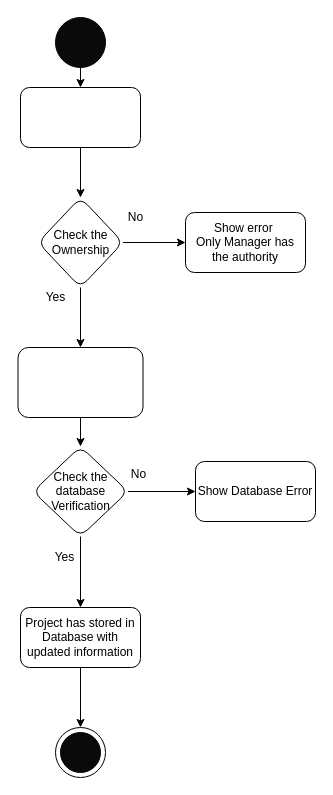
The diagram is 333 pixels wide and 795 high, and some of its shapes have lost their labels. Each missing label, with the centre of its shape:
Manager has updated the attributed of project which required: pixel 80 382
User Login: pixel 80 117
